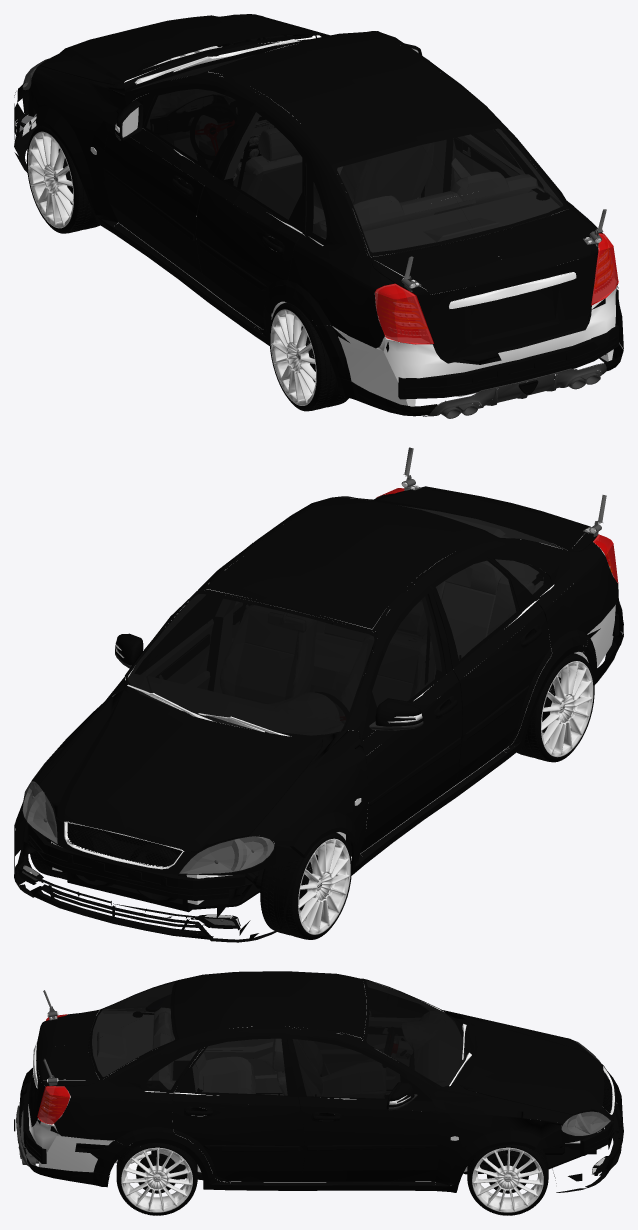
File: car_gentra.glb
The picture shows the model from 3 angles, top to bottom: view 1: azimuth 30°, elevation 25°; view 2: azimuth 150°, elevation 25°; view 3: azimuth 270°, elevation 25°; orthographic projection. The views are drawn at different scales.
Parts seen in each view (by area): view 1: Body, wheel_rl, wheel_fl; view 2: Body, wheel_fl, wheel_rl; view 3: Body, wheel_rr, wheel_fr.
Boxes of the visible parts, left/top/right/bottom form: Body: left=14, top=14, right=623, bottom=418; wheel_rl: left=269, top=302, right=348, bottom=411; wheel_fl: left=26, top=125, right=99, bottom=233; Body: left=14, top=447, right=623, bottom=942; wheel_fl: left=260, top=832, right=351, bottom=939; wheel_rl: left=516, top=653, right=594, bottom=762; Body: left=14, top=971, right=623, bottom=1192; wheel_rr: left=116, top=1143, right=197, bottom=1215; wheel_fr: left=467, top=1144, right=548, bottom=1215.
Bounding box in the file's own units: 1.89 × 1.41 × 4.52.
